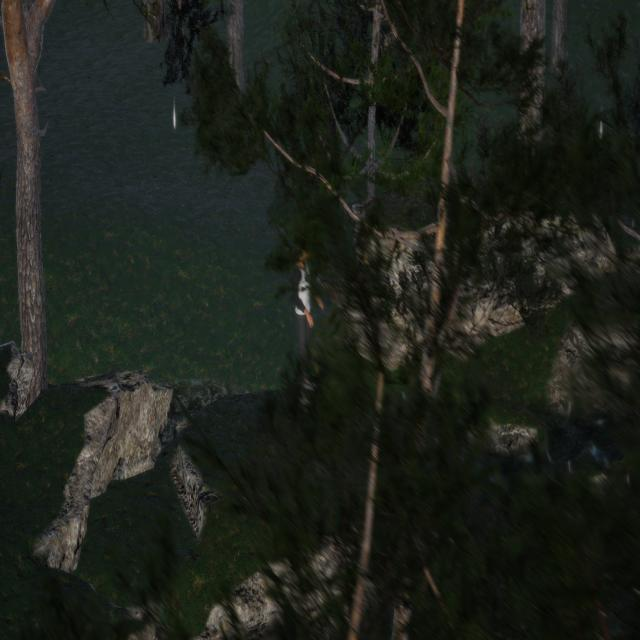Human: (286, 235, 321, 415)
